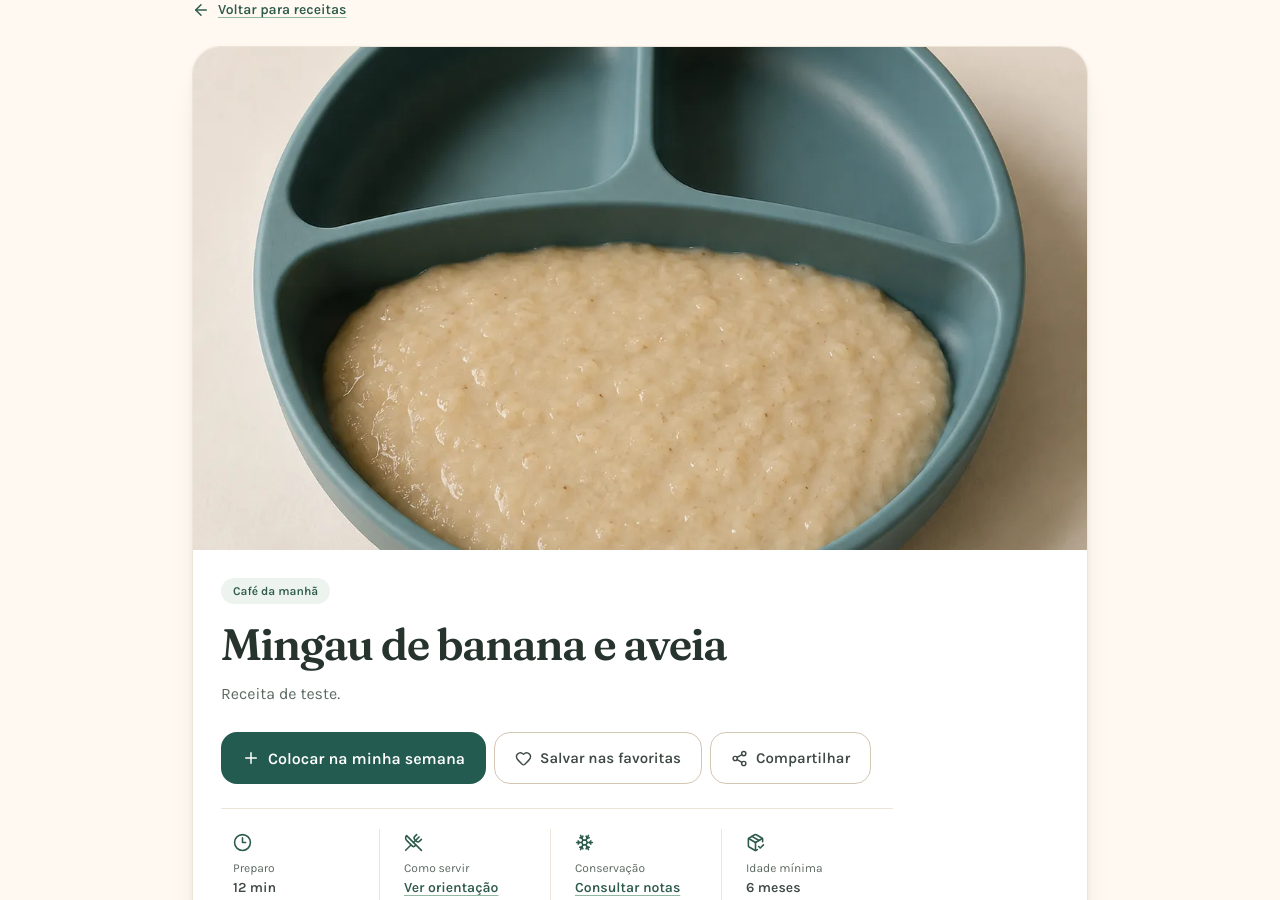
it: avisa quando o horário já tem mais de uma refeição
Click the button "Colocar na minha semana" at (354,758), box x1=221 y1=732 x2=486 y2=784
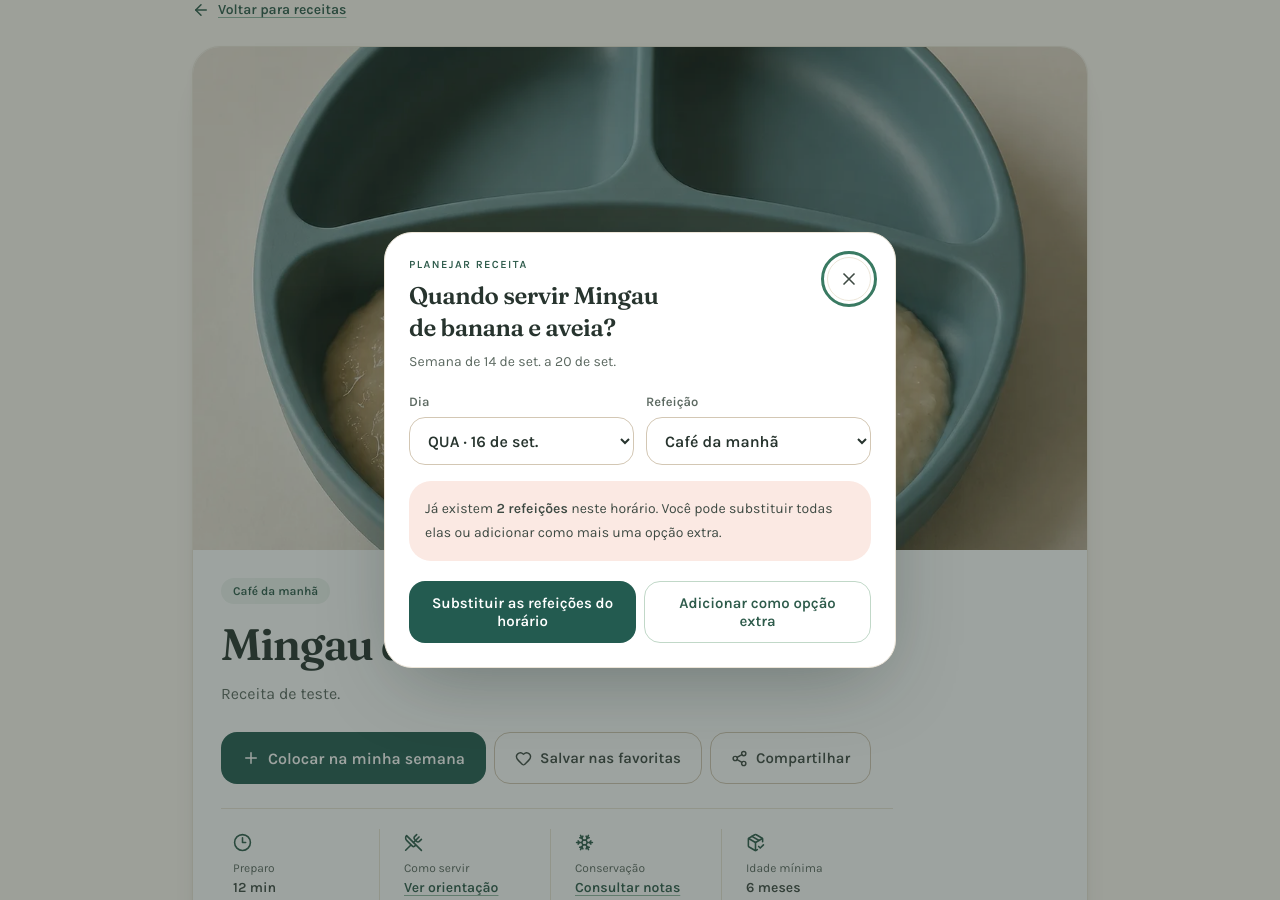
Check: the text "Já existem" is shown, box x1=425 y1=500 x2=496 y2=517
Check: the button "Substituir as refeições do horário" is shown, box x1=409 y1=581 x2=636 y2=643
